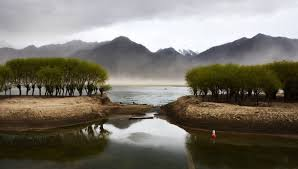mountain: (6, 37, 296, 83)
sky: (2, 5, 298, 41)
tree: (8, 61, 117, 96), (189, 62, 298, 97)
